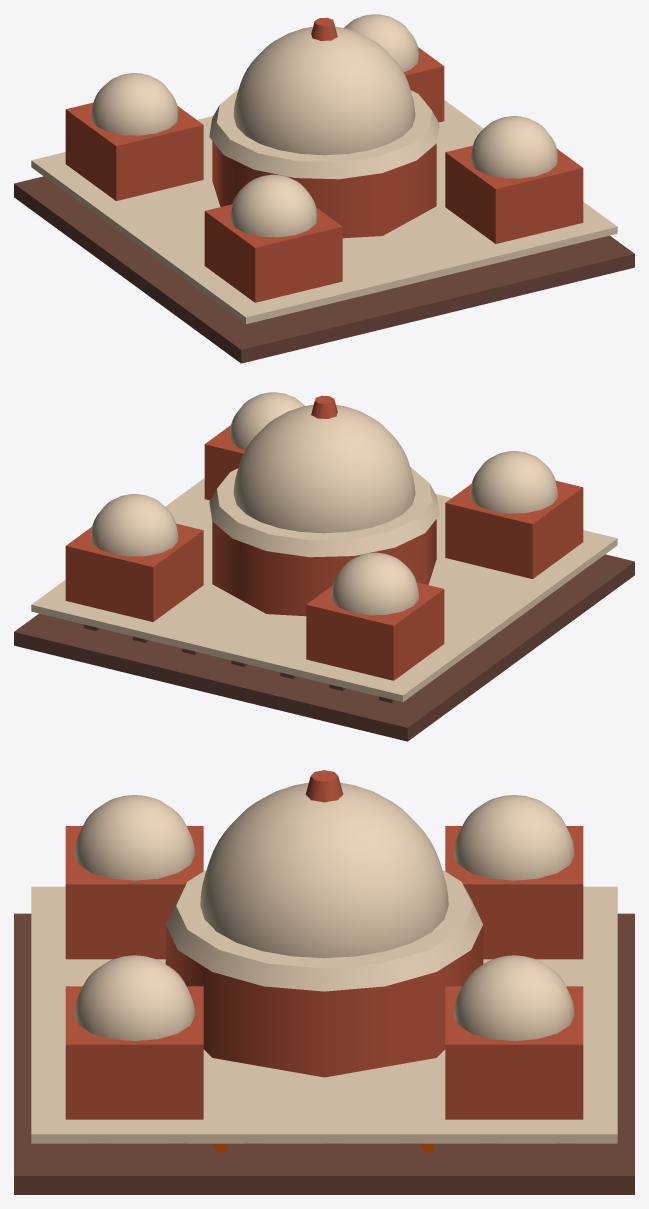
Rendered from aam-khas-bagh.glb.
3 views of the same model, one above another, from view 1: azimuth 30°, elevation 25°; view 2: azimuth 150°, elevation 25°; view 3: azimuth 270°, elevation 25° (orthographic). The views are drawn at different scales.
Visible parts, largest first — view 1: Aam_Khas_Bagh_LiDAR_Digital_Twin; view 2: Aam_Khas_Bagh_LiDAR_Digital_Twin; view 3: Aam_Khas_Bagh_LiDAR_Digital_Twin.
Part boxes in pixels (x1=…): Aam_Khas_Bagh_LiDAR_Digital_Twin: x1=14, y1=14, x2=634, y2=363; Aam_Khas_Bagh_LiDAR_Digital_Twin: x1=14, y1=392, x2=634, y2=741; Aam_Khas_Bagh_LiDAR_Digital_Twin: x1=14, y1=770, x2=634, y2=1194.
Size of the model in its own units: 36 by 18.4 by 36.
